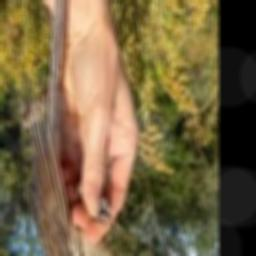Cuckoo: (26, 0, 136, 256)
